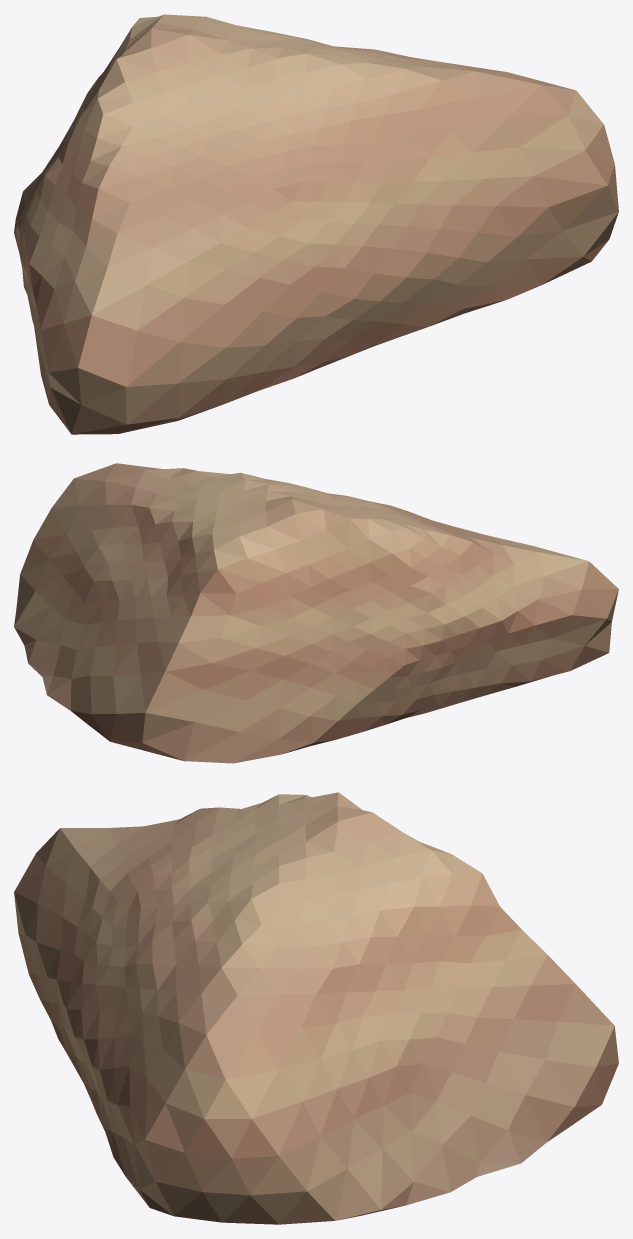
File: rock_4.glb
The picture shows the model from 3 angles, top to bottom: view 1: azimuth 30°, elevation 25°; view 2: azimuth 150°, elevation 25°; view 3: azimuth 270°, elevation 25°; orthographic projection. The views are drawn at different scales.
Visible parts, largest first — view 1: rock; view 2: rock; view 3: rock.
Boxes of the visible parts, <box> form: rock: <box>14,14,618,434</box>; rock: <box>14,463,618,763</box>; rock: <box>14,792,618,1224</box>.
Bounding box in the file's own units: 4 × 1.41 × 3.29.
